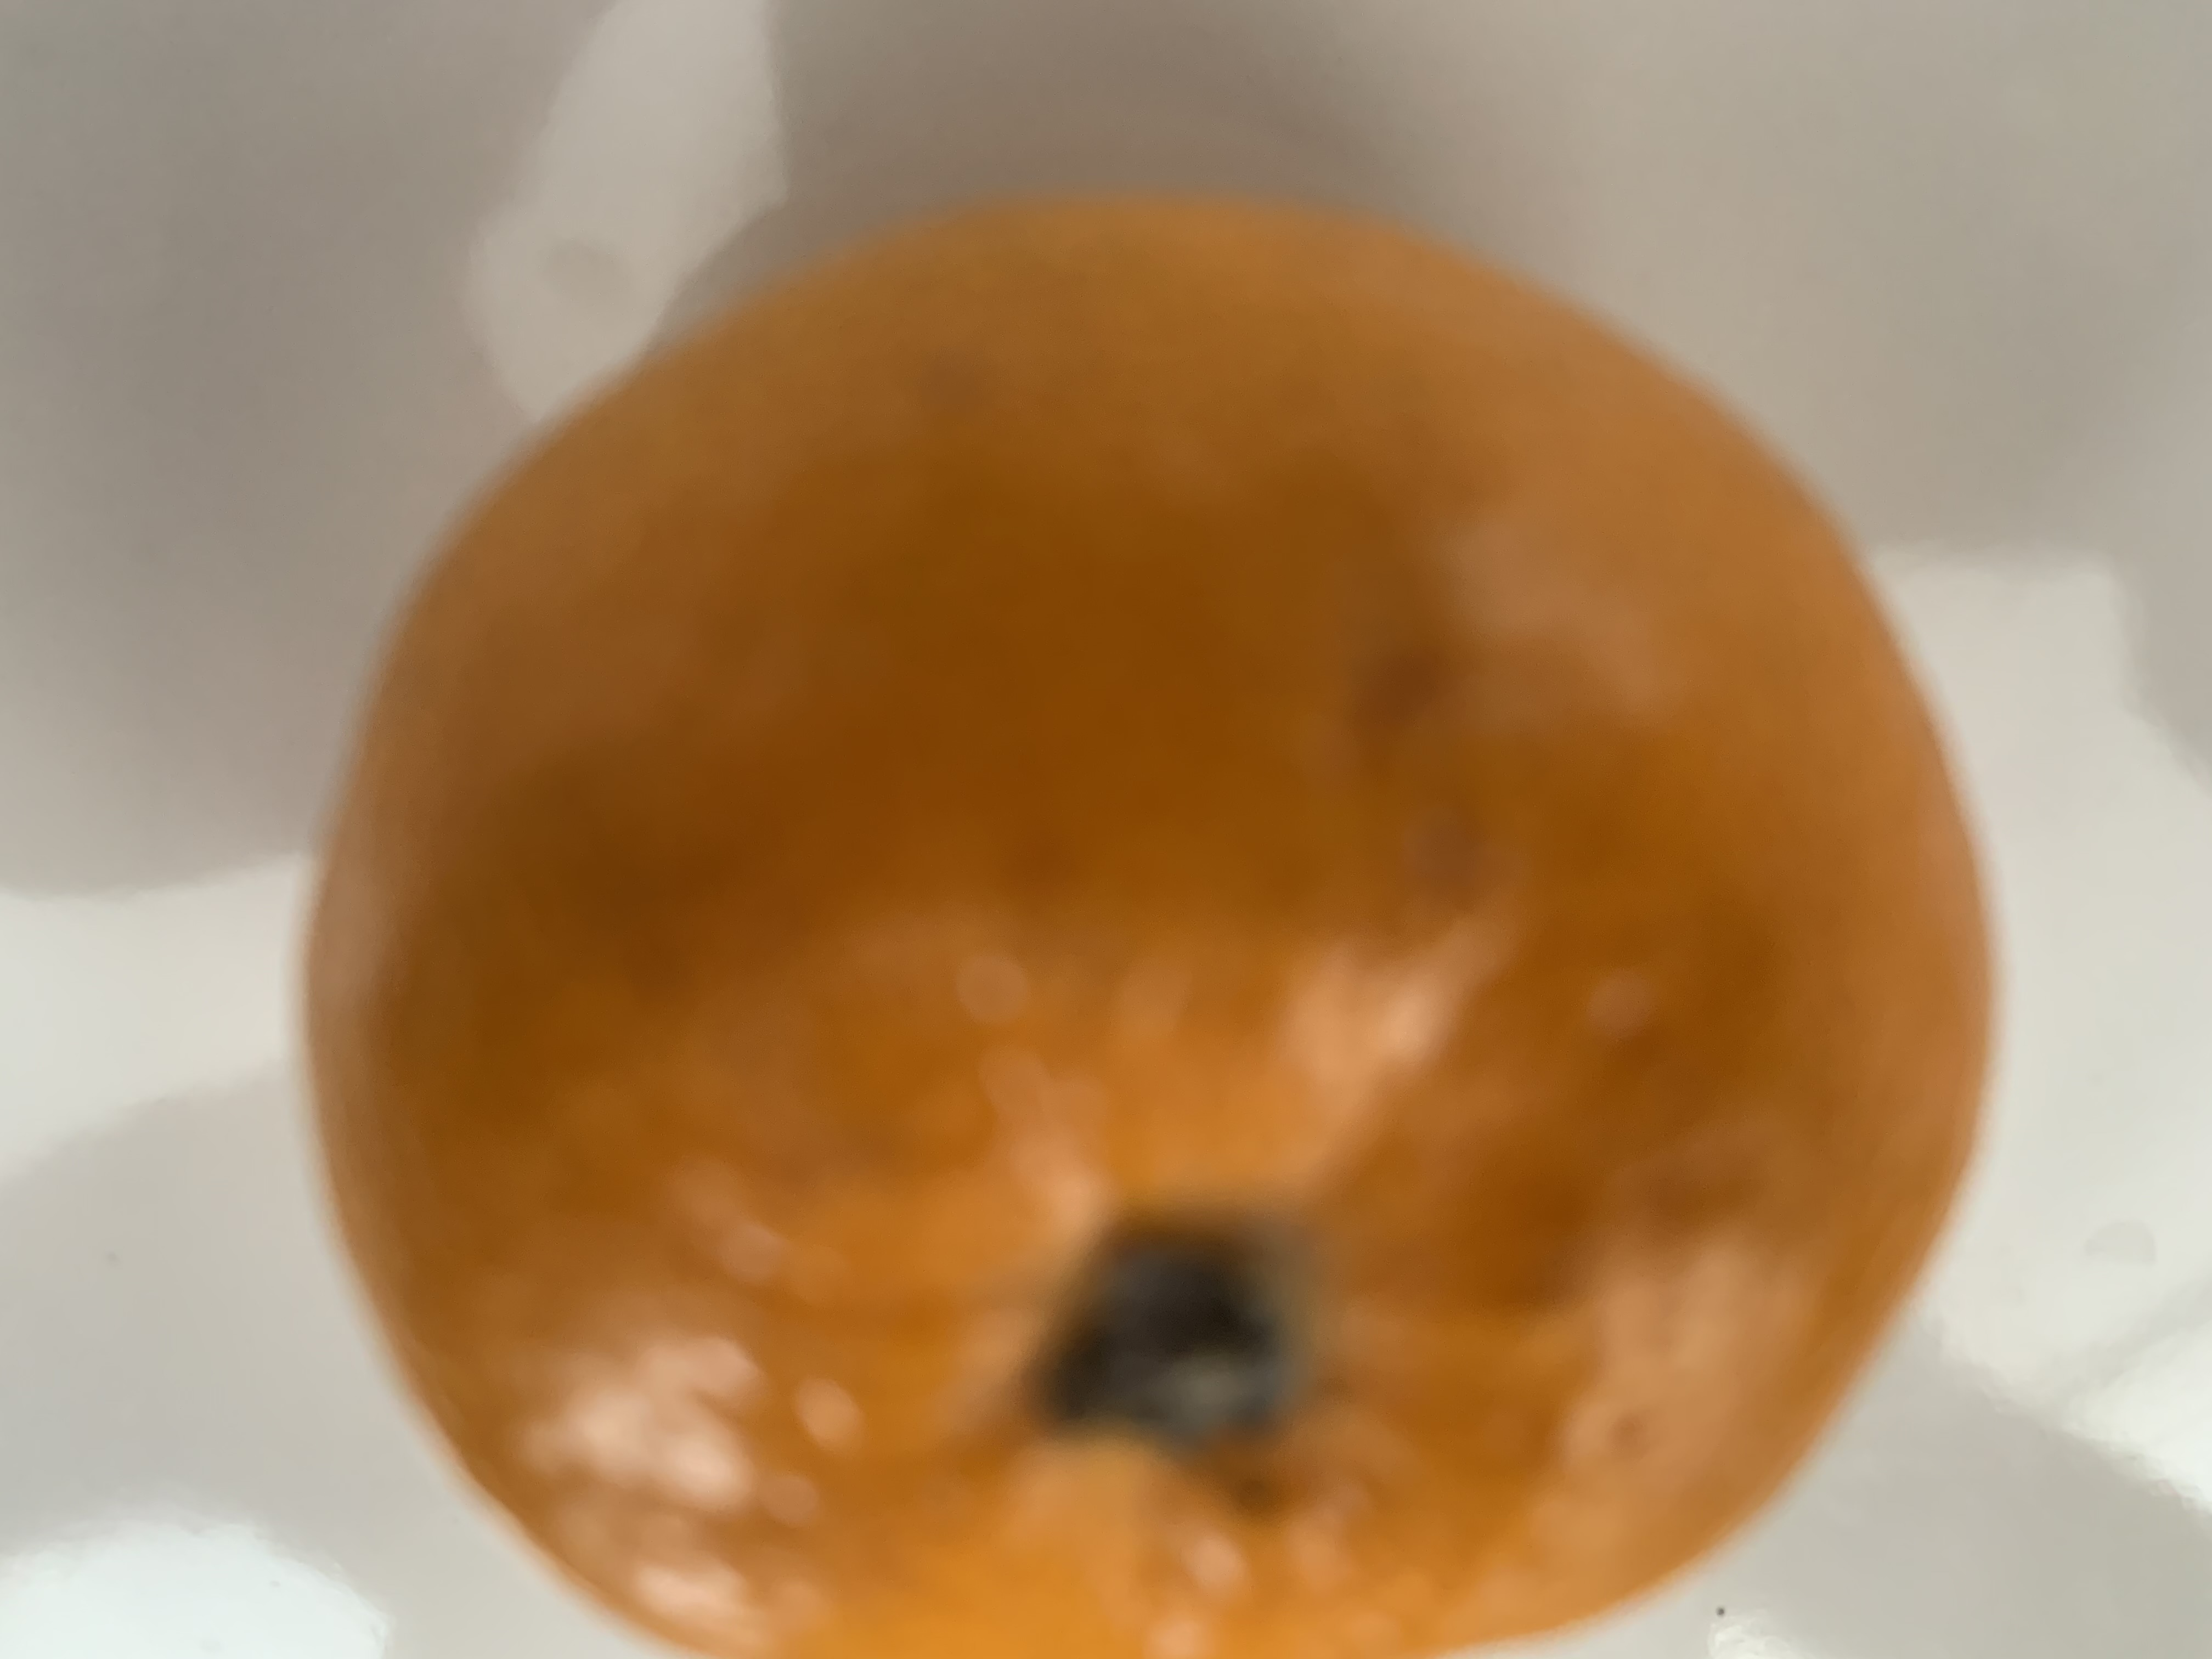orange: (305, 223, 2017, 1659)
